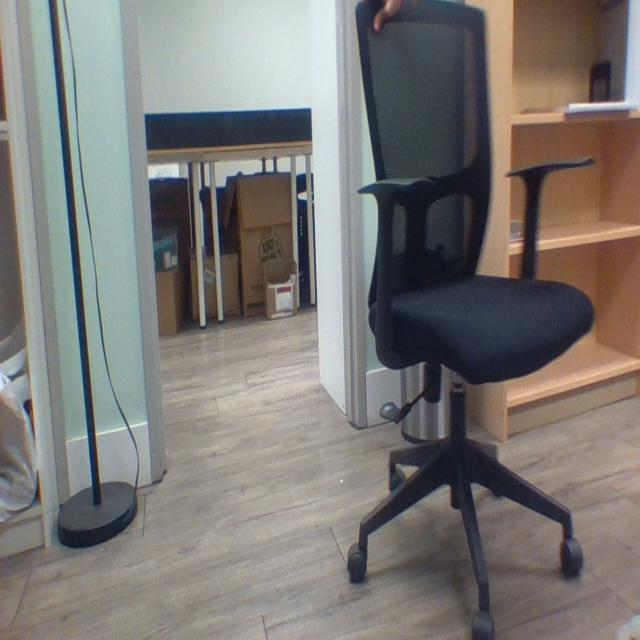chair: (352, 0, 608, 622)
